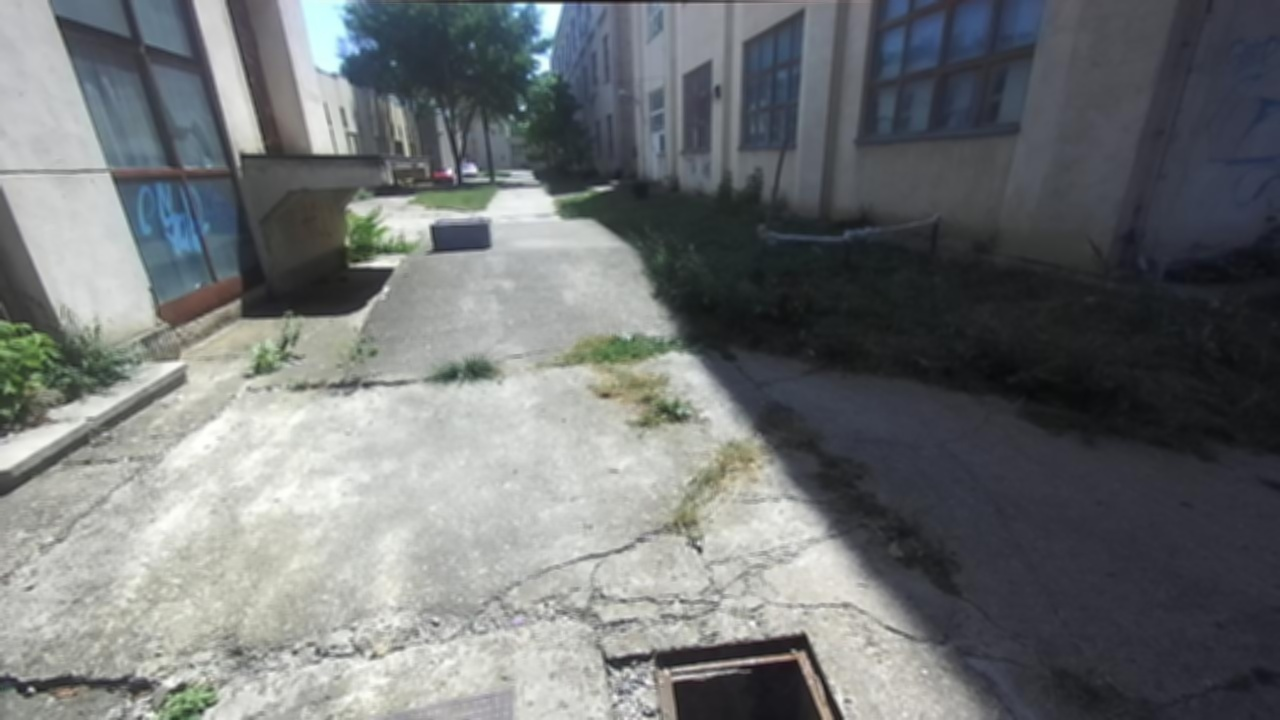drain: (641, 633, 849, 718)
